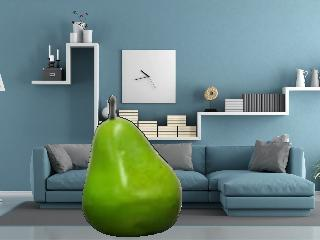pear: (84, 96, 182, 238)
